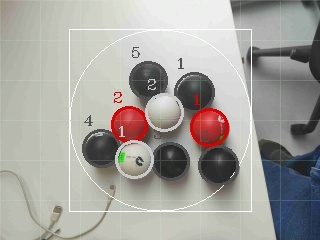Pelota blanca: (0, 167, 35, 240), (173, 71, 215, 111), (113, 139, 152, 180), (145, 93, 185, 132)
Pelota negra: (173, 71, 215, 111), (197, 145, 240, 184), (129, 59, 169, 99), (81, 127, 119, 168), (151, 141, 190, 180), (309, 19, 320, 84)
Pelota roja: (189, 105, 230, 148), (109, 105, 149, 142)
